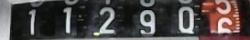digits: (98, 6, 118, 34), (138, 9, 156, 36), (178, 5, 194, 33), (215, 17, 234, 40), (62, 6, 73, 34), (27, 8, 36, 36)
